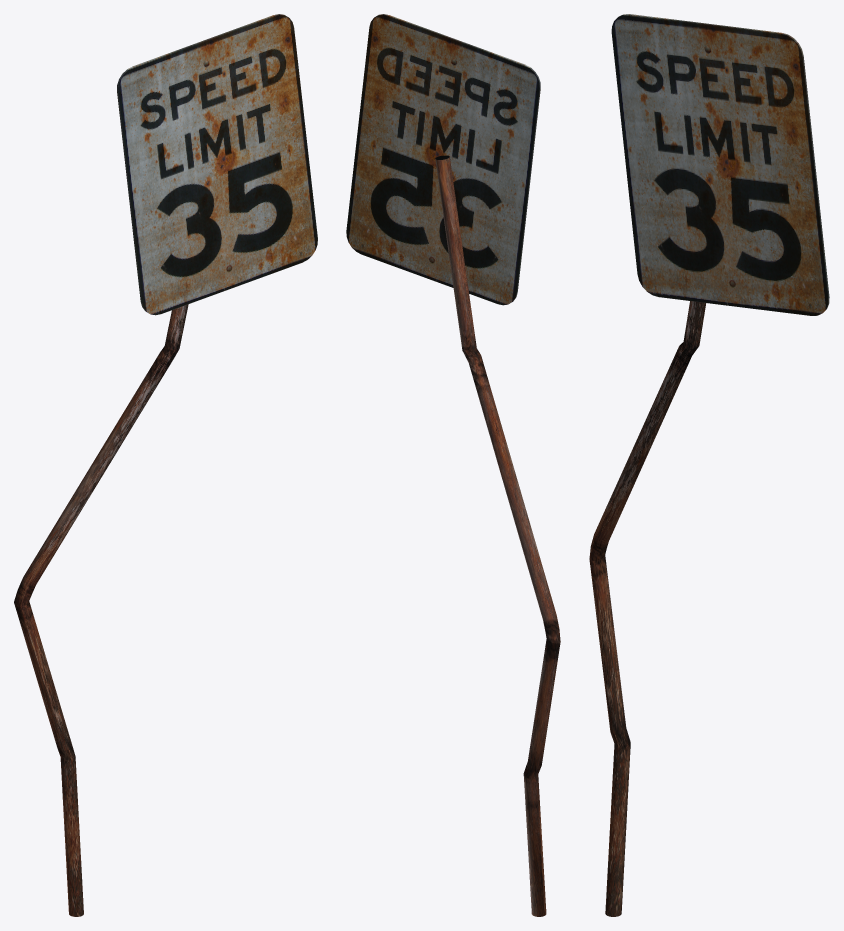
Rendered from sign0.obj.
3 renders of one model, left to right at view 1: azimuth 30°, elevation 25°; view 2: azimuth 150°, elevation 25°; view 3: azimuth 330°, elevation 25°, orthographic. The views are drawn at different scales.
Visible parts, largest first — view 1: pCube26_Untitled.001, pCylinder2_Untitled; view 2: pCube26_Untitled.001, pCylinder2_Untitled; view 3: pCube26_Untitled.001, pCylinder2_Untitled.
Part boxes in pixels (x1=…): pCube26_Untitled.001: x1=117, y1=14, x2=317, y2=315; pCylinder2_Untitled: x1=14, y1=304, x2=188, y2=916; pCube26_Untitled.001: x1=346, y1=14, x2=540, y2=305; pCylinder2_Untitled: x1=435, y1=155, x2=560, y2=916; pCube26_Untitled.001: x1=611, y1=14, x2=829, y2=315; pCylinder2_Untitled: x1=589, y1=301, x2=706, y2=916.
Bounding box in the file's own units: 0.8104 × 2.58 × 0.2431.
2 materials, 2 textured.
